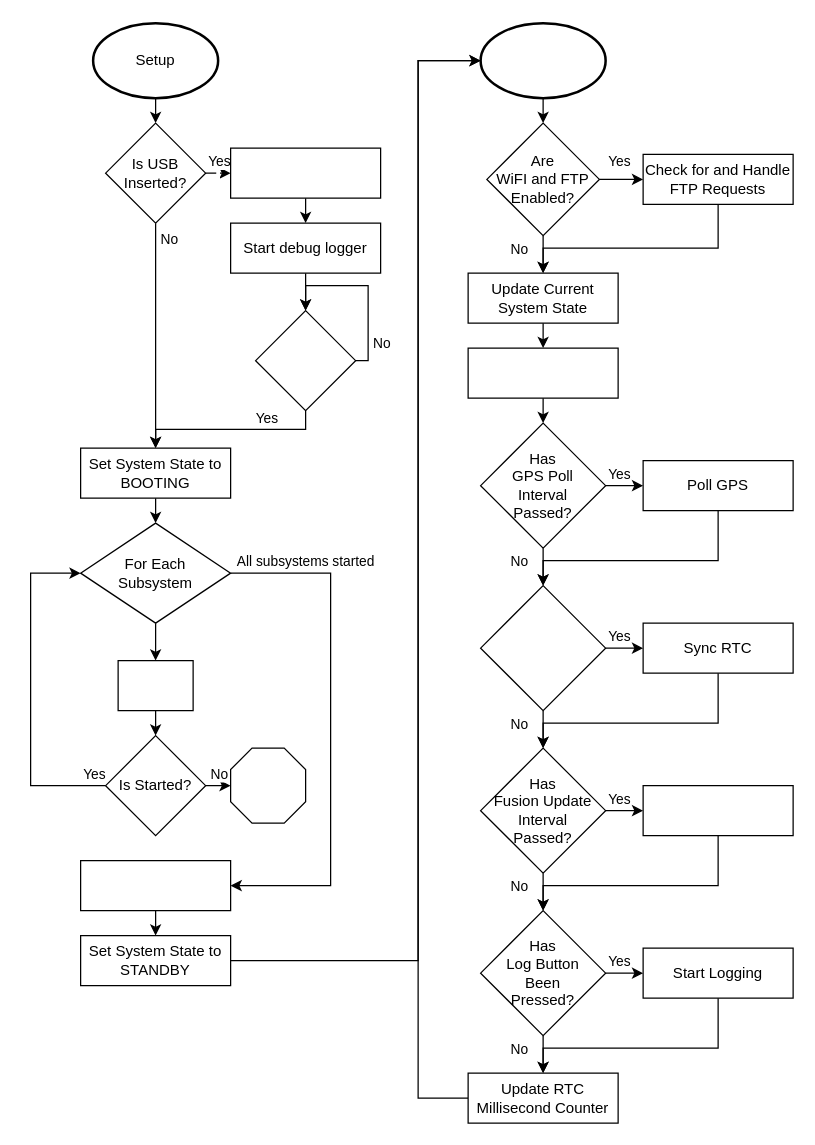
This 815x1145 diagram has some shape labels left out. Here are the shapes that lost their labels. From the top down, the centre of each, then its label:
At (542,60): "Loop".
At (305,172): "Set DEBUG_MODE".
At (305,360): "Is Serial Port Open?".
At (542,372): "Update System LED".
At (542,647): "Has RTC Sync Invterval Passed?".
At (155,685): "Start".
At (267,785): "Stop".
At (717,810): "Update Sensor Fusion".
At (155,885): "Attach Log Interrupt Function".
